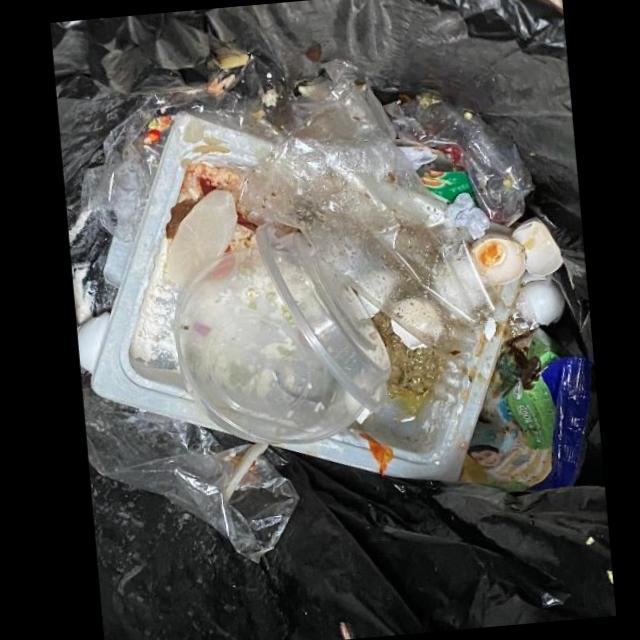bao_bi_thuc_pham: (458, 326, 590, 491)
thuc_an_thua: (371, 310, 439, 416)
tui_ni_long: (239, 81, 493, 348), (80, 371, 299, 561), (383, 91, 535, 226)
vo_trung: (464, 232, 525, 285), (512, 216, 563, 276), (510, 272, 565, 325), (390, 317, 427, 349)
